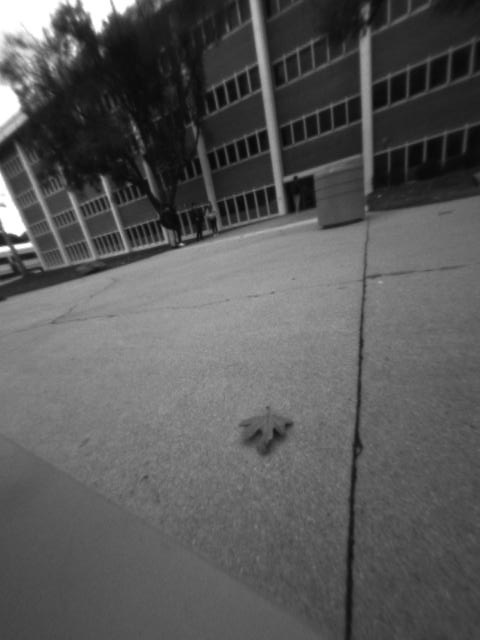trashcan: (310, 156, 370, 226)
